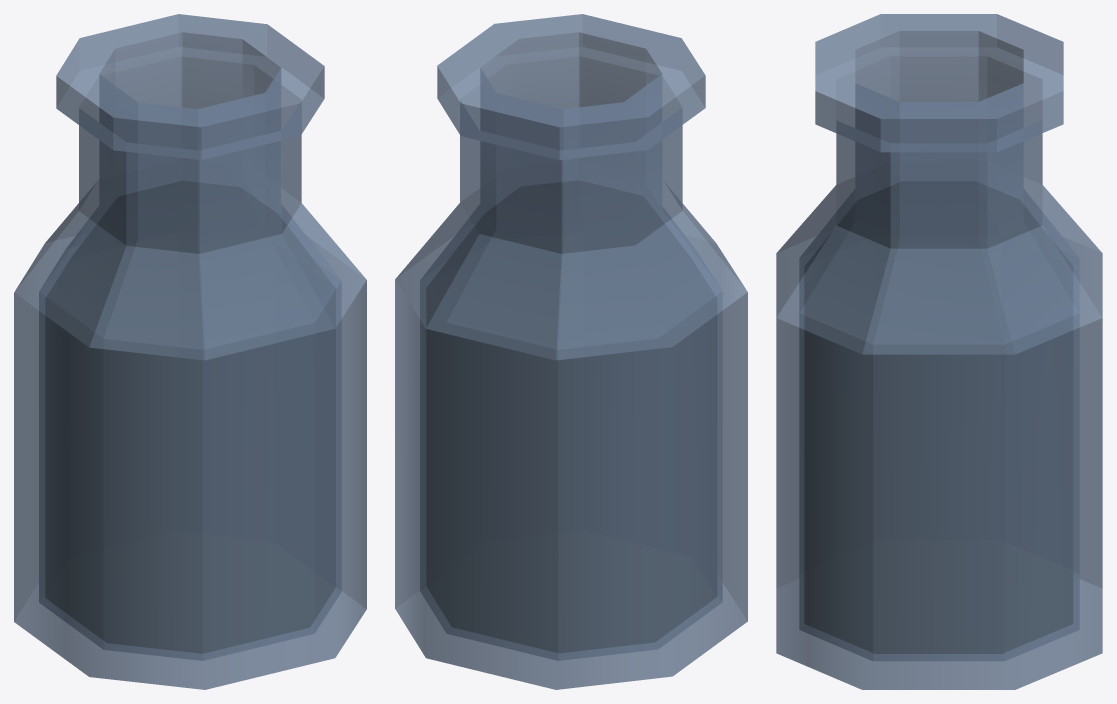
The model's file is SpiceBottle.fbx.
3 renders of one model, left to right at view 1: azimuth 30°, elevation 25°; view 2: azimuth 150°, elevation 25°; view 3: azimuth 270°, elevation 25°, orthographic.
Visible parts, largest first — view 1: Spice8; view 2: Spice8; view 3: Spice8.
Part boxes in pixels (<box>): Spice8: <box>14,14,366,689</box>; Spice8: <box>395,14,747,689</box>; Spice8: <box>776,14,1102,689</box>.
Bounding box in the file's own units: 0.2127 × 0.3989 × 0.2127.
